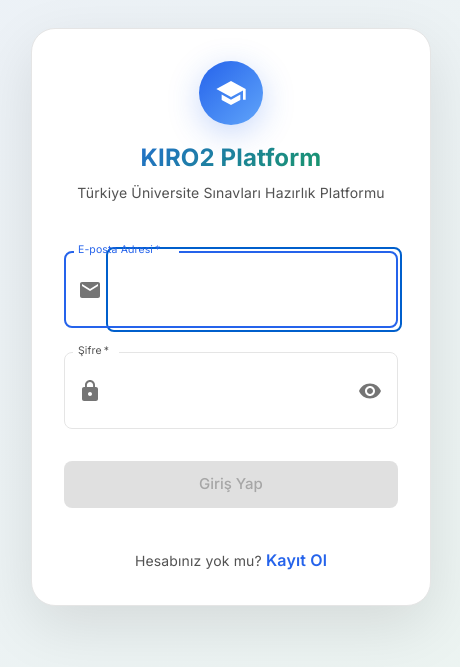
Test: ModernLoginForm › Form Validation › shows error when submitting empty password
Note: Fill only email
Step 1. Type "test@example.com" into the field labelled "E-posta Adresi *" → coordinates (254, 290), box [110,251,398,328]
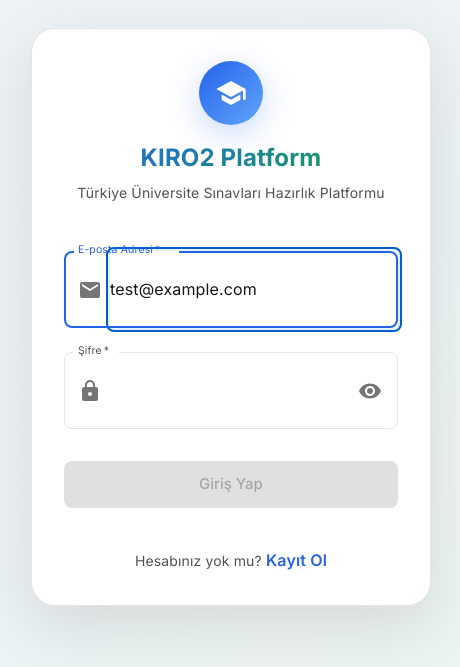
Note: Try to submit
Step 2. Submit the form, box [64,235,398,524]
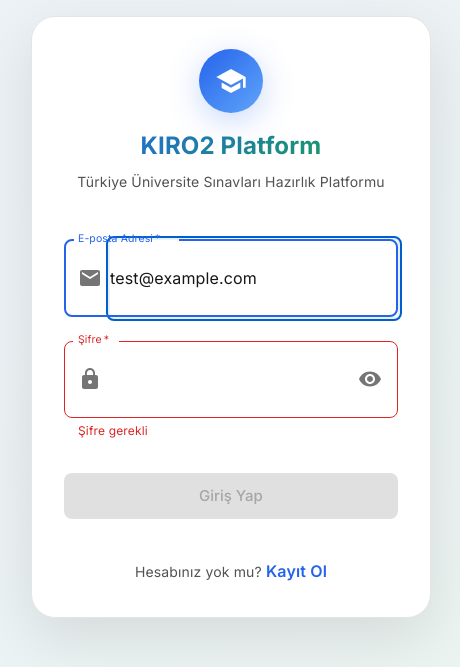
Expected: the text "Şifre gerekli" is shown, [78,423,148,438]
